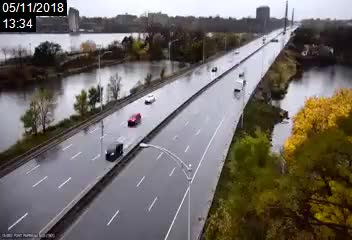personal_car: (104, 142, 124, 161), (127, 112, 142, 127), (145, 94, 156, 105), (211, 66, 217, 73)
